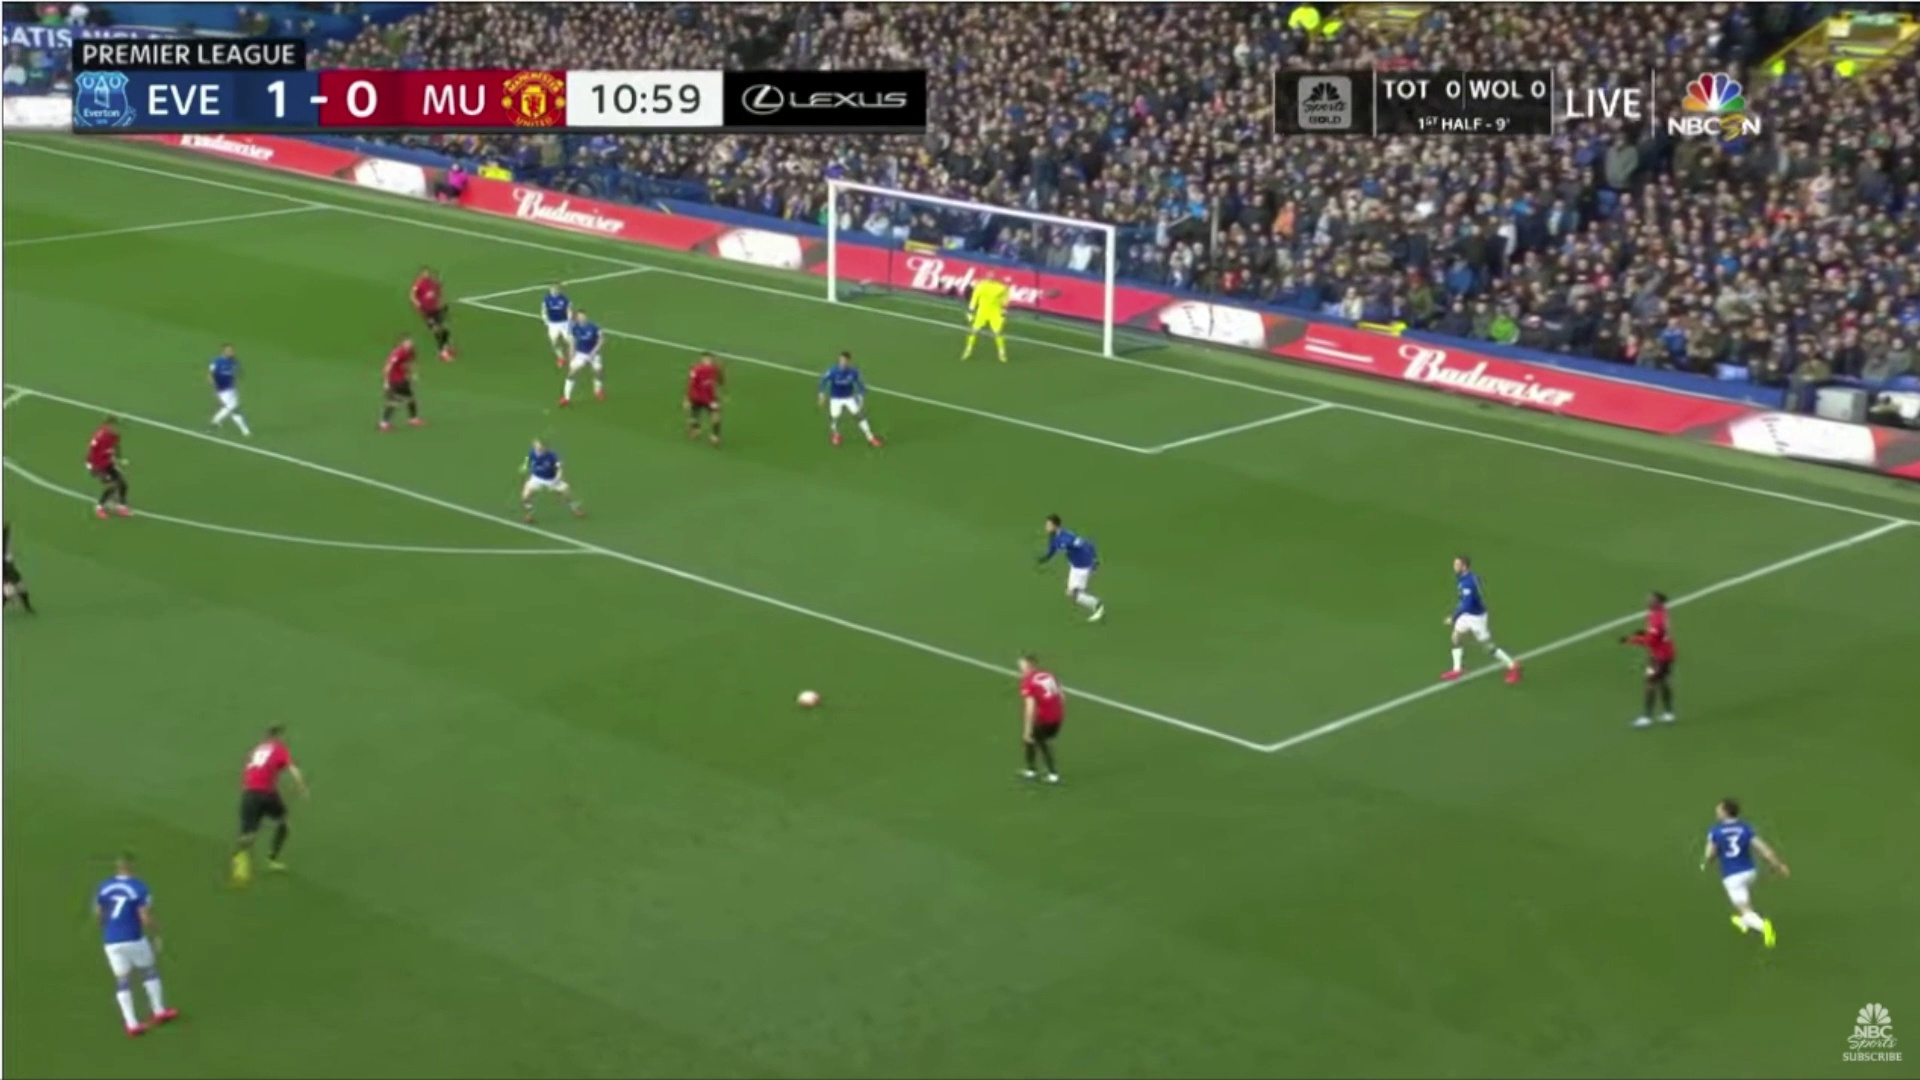ball: (787, 677, 831, 719)
player: (210, 706, 341, 908), (74, 840, 199, 1037), (1691, 783, 1802, 956), (983, 638, 1087, 796), (1427, 538, 1524, 696), (1602, 565, 1695, 727), (675, 337, 752, 483), (1018, 510, 1118, 612), (810, 337, 895, 454), (79, 400, 158, 515), (193, 340, 272, 454), (508, 429, 585, 529), (370, 333, 435, 438), (400, 256, 468, 354), (956, 258, 1018, 352), (562, 308, 610, 419), (537, 277, 579, 369)
